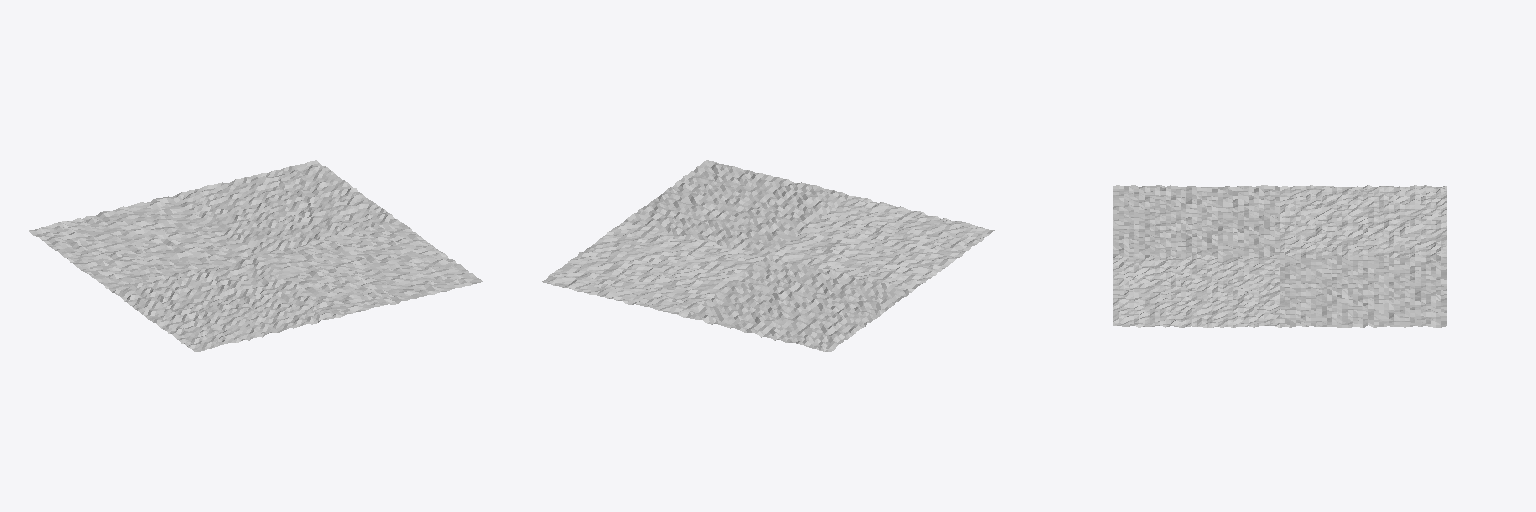
File: redFabric high.obj
3 renders of one model, left to right at view 1: azimuth 30°, elevation 25°; view 2: azimuth 150°, elevation 25°; view 3: azimuth 270°, elevation 25°, orthographic.
Parts seen in each view (by area): view 1: fabric_height_Plane.001; view 2: fabric_height_Plane.001; view 3: fabric_height_Plane.001.
Boxes of the visible parts, box(x1,y1,x2,y2) form: fabric_height_Plane.001: box(29, 160, 482, 351); fabric_height_Plane.001: box(542, 160, 994, 351); fabric_height_Plane.001: box(1113, 185, 1446, 327).
Size of the model in its own units: 2 by 0.025 by 2.